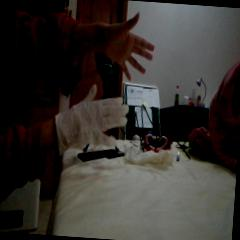gloved: (54, 82, 132, 154)
not-gloved: (86, 12, 158, 80)
